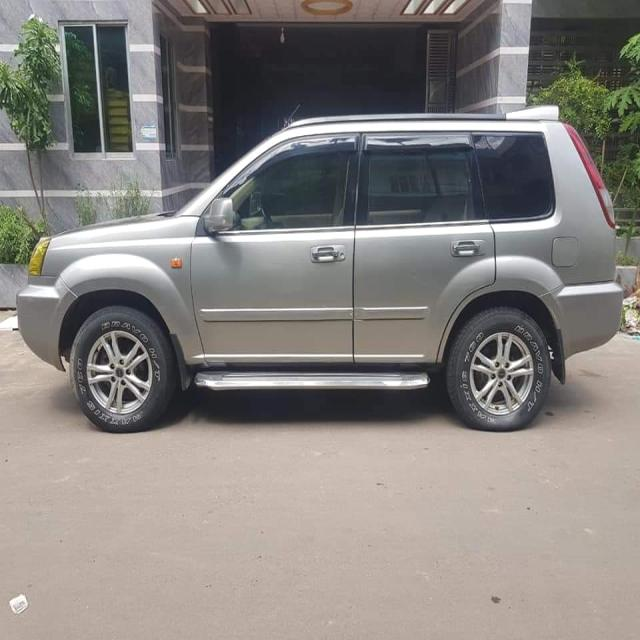silver: (11, 111, 614, 430)
